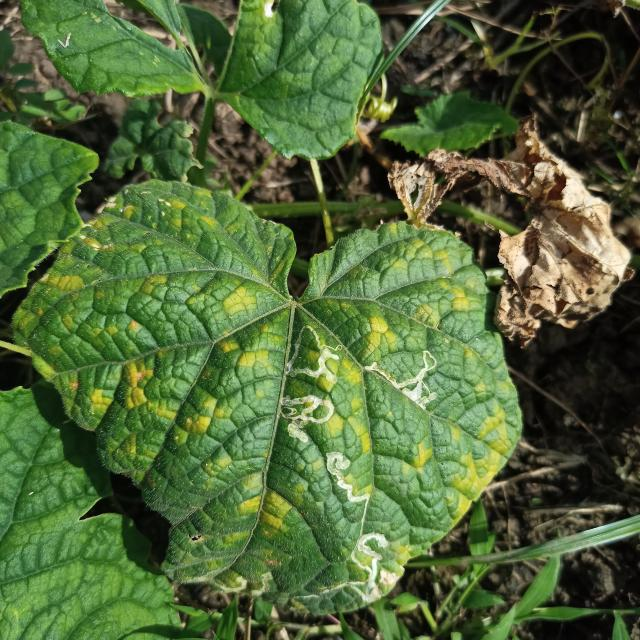disease_cucumber: (40, 176, 512, 603)
